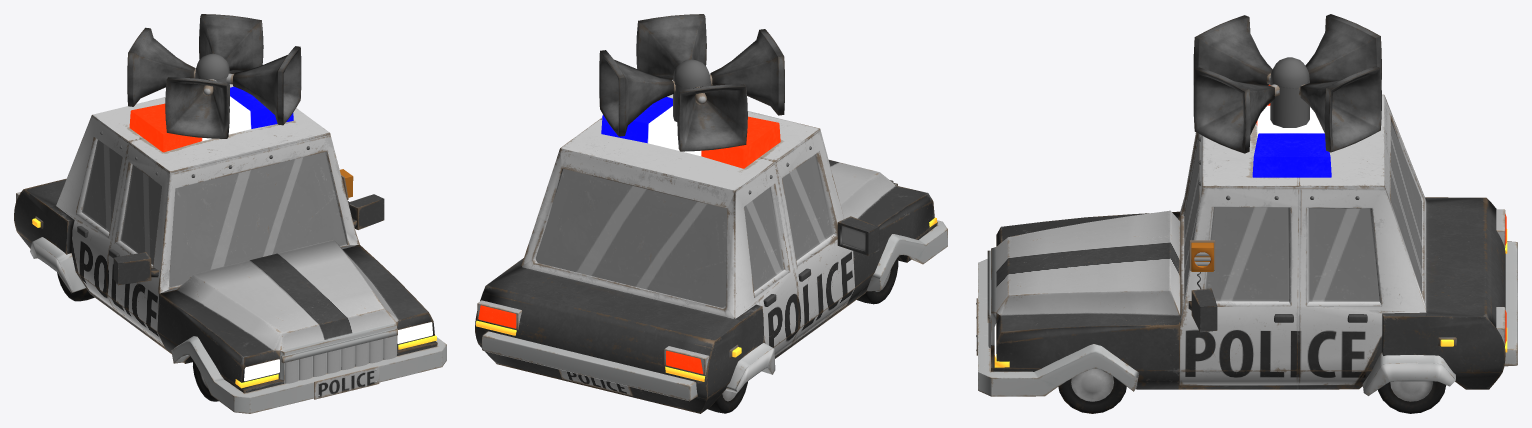
3 views of the same model, side by side, from view 1: azimuth 30°, elevation 25°; view 2: azimuth 150°, elevation 25°; view 3: azimuth 270°, elevation 25° (orthographic). The views are drawn at different scales.
Parts seen in each view (by area): view 1: Police_Car.1; view 2: Police_Car.1; view 3: Police_Car.1.
Boxes of the visible parts, x1=… form: Police_Car.1: x1=14, y1=14, x2=446, y2=413; Police_Car.1: x1=475, y1=14, x2=947, y2=413; Police_Car.1: x1=976, y1=14, x2=1517, y2=413.
Bounding box in the file's own units: 0.093 × 0.0898 × 0.1406.
1 material, 1 textured.
